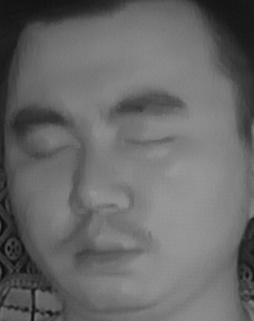blink: (125, 122, 176, 162), (29, 129, 73, 167)
mouth: (62, 222, 151, 279)
